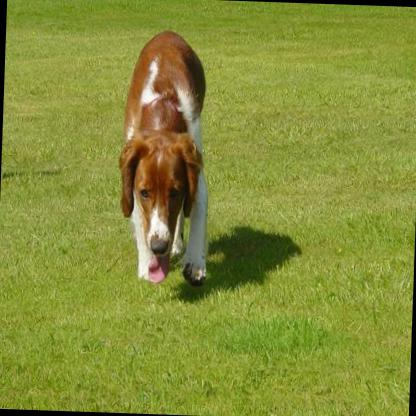Welsh_springer_spaniel: (113, 27, 217, 284)
